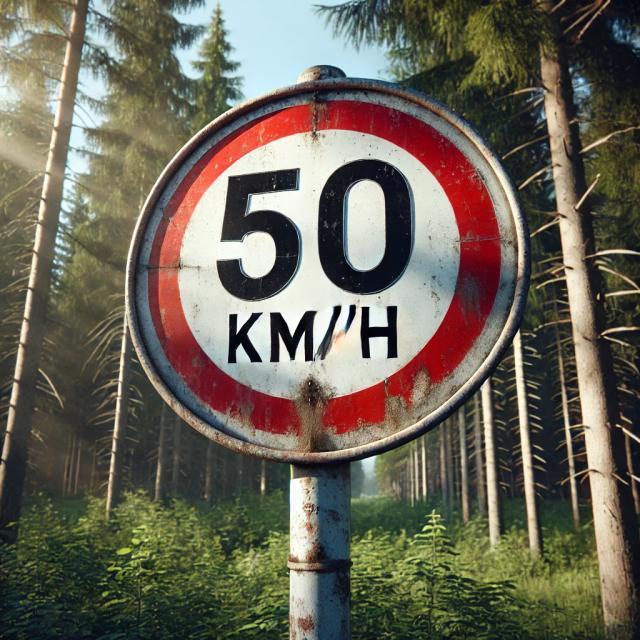Speed limit 50: (124, 71, 532, 467)
